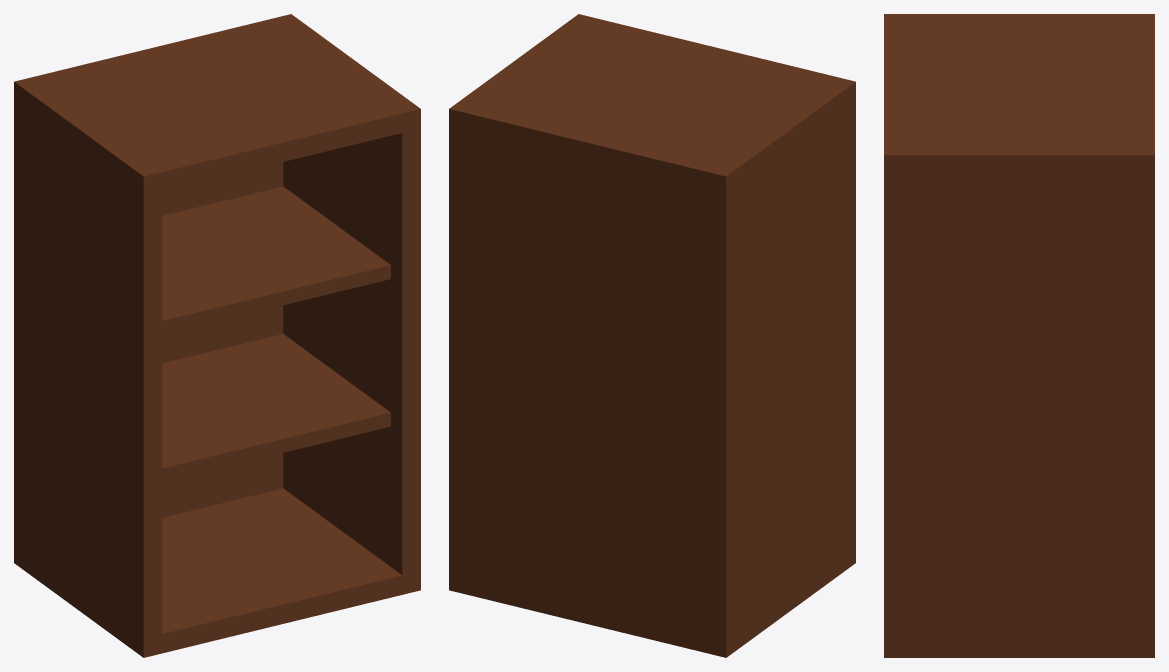
Rendered from KitchenShelves1.glb.
3 views of the same model, side by side, from view 1: azimuth 30°, elevation 25°; view 2: azimuth 150°, elevation 25°; view 3: azimuth 270°, elevation 25° (orthographic). The views are drawn at different scales.
Visible parts, largest first — view 1: KitchenShelves1; view 2: KitchenShelves1; view 3: KitchenShelves1.
Boxes of the visible parts, bbox=[...] form: KitchenShelves1: bbox=[14, 14, 420, 657]; KitchenShelves1: bbox=[449, 14, 855, 657]; KitchenShelves1: bbox=[884, 14, 1154, 657].
Bounding box in the file's own units: 0.5215 × 0.8651 × 0.4225.
